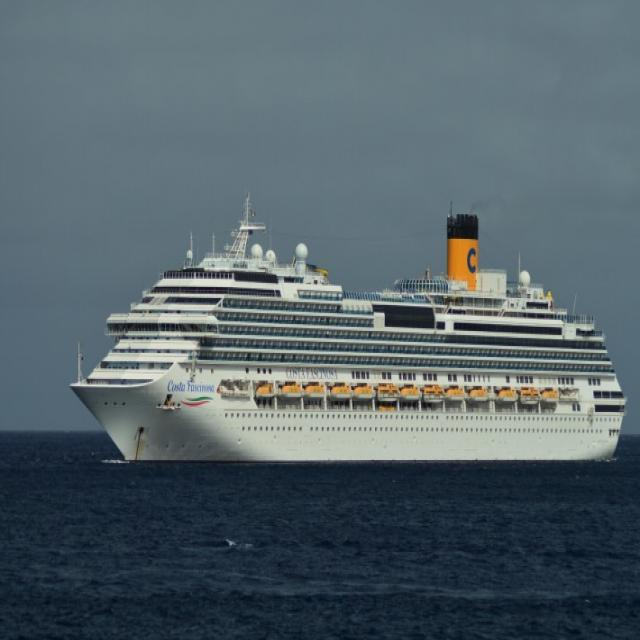cruises: (68, 193, 631, 471)
